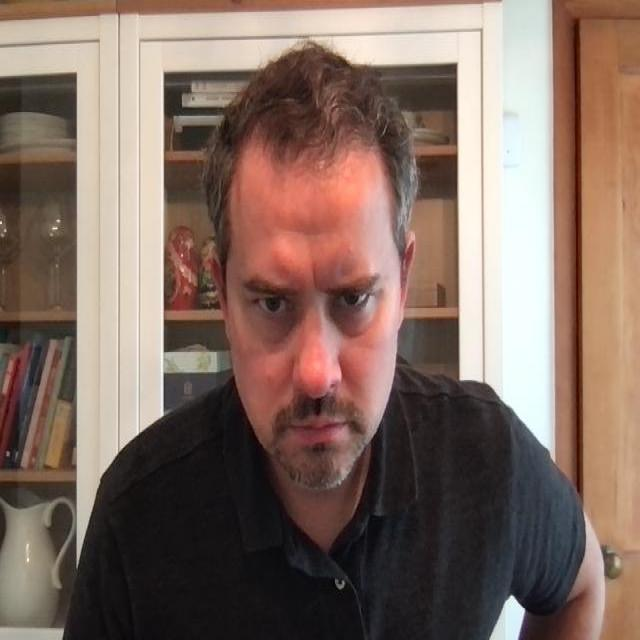face: (205, 40, 418, 500)
